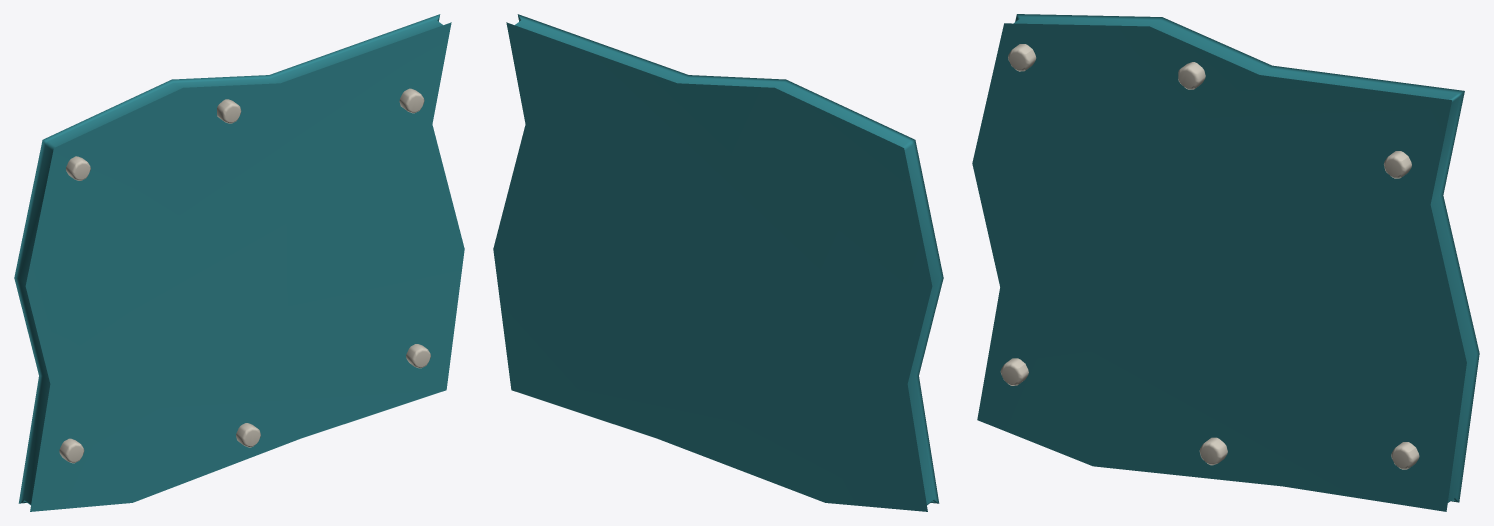
File: MetalSheet.fbx
3 renders of one model, left to right at view 1: azimuth 30°, elevation 25°; view 2: azimuth 150°, elevation 25°; view 3: azimuth 330°, elevation 25°, orthographic. The views are drawn at different scales.
Parts seen in each view (by area): view 1: SM_SheetMetal_JaggedPanel_A; view 2: SM_SheetMetal_JaggedPanel_A; view 3: SM_SheetMetal_JaggedPanel_A.
Part boxes in pixels (<box>): SM_SheetMetal_JaggedPanel_A: <box>14,14,464,511</box>; SM_SheetMetal_JaggedPanel_A: <box>493,14,943,511</box>; SM_SheetMetal_JaggedPanel_A: <box>972,14,1479,511</box>.
Bounding box in the file's own units: 49.2 × 43.13 × 3.85.
